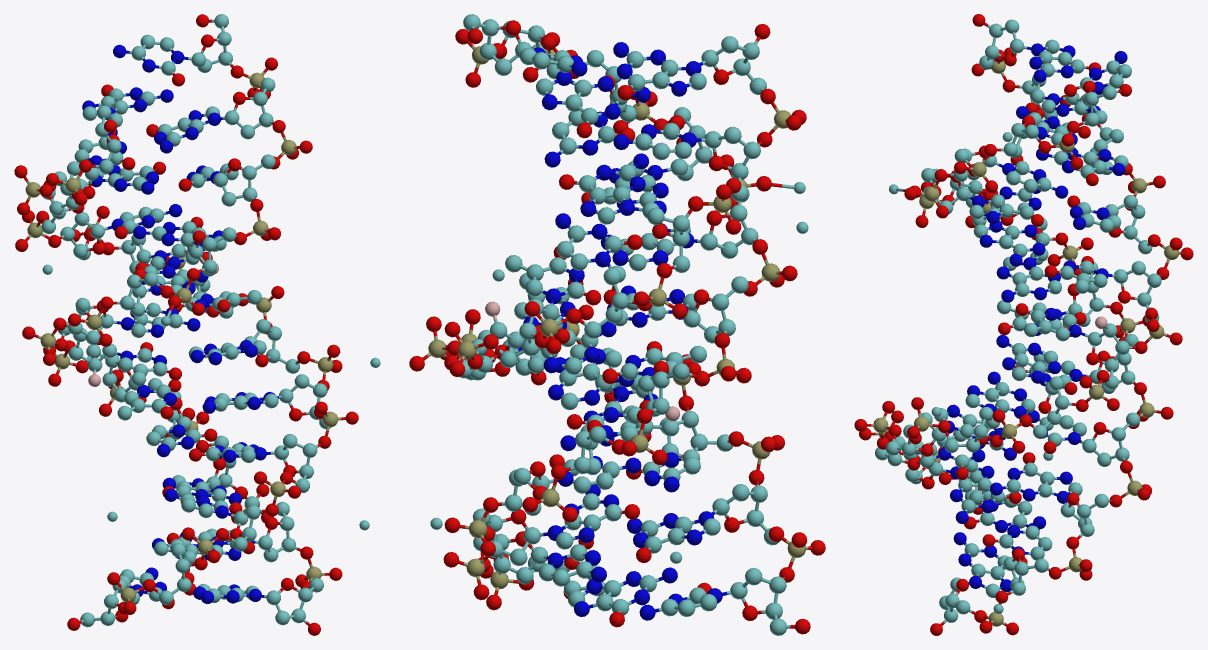
Rendered from adn.glb.
3 renders of one model, left to right at view 1: azimuth 30°, elevation 25°; view 2: azimuth 150°, elevation 25°; view 3: azimuth 270°, elevation 25°, orthographic. The views are drawn at different scales.
Visible parts, largest first — view 1: ADN; view 2: ADN; view 3: ADN.
Part boxes in pixels (left/top/right/bottom): ADN: left=14, top=14, right=380, bottom=635; ADN: left=409, top=14, right=825, bottom=635; ADN: left=854, top=14, right=1193, bottom=635.
Size of the model in its own units: 2.81 by 4.66 by 2.62.
